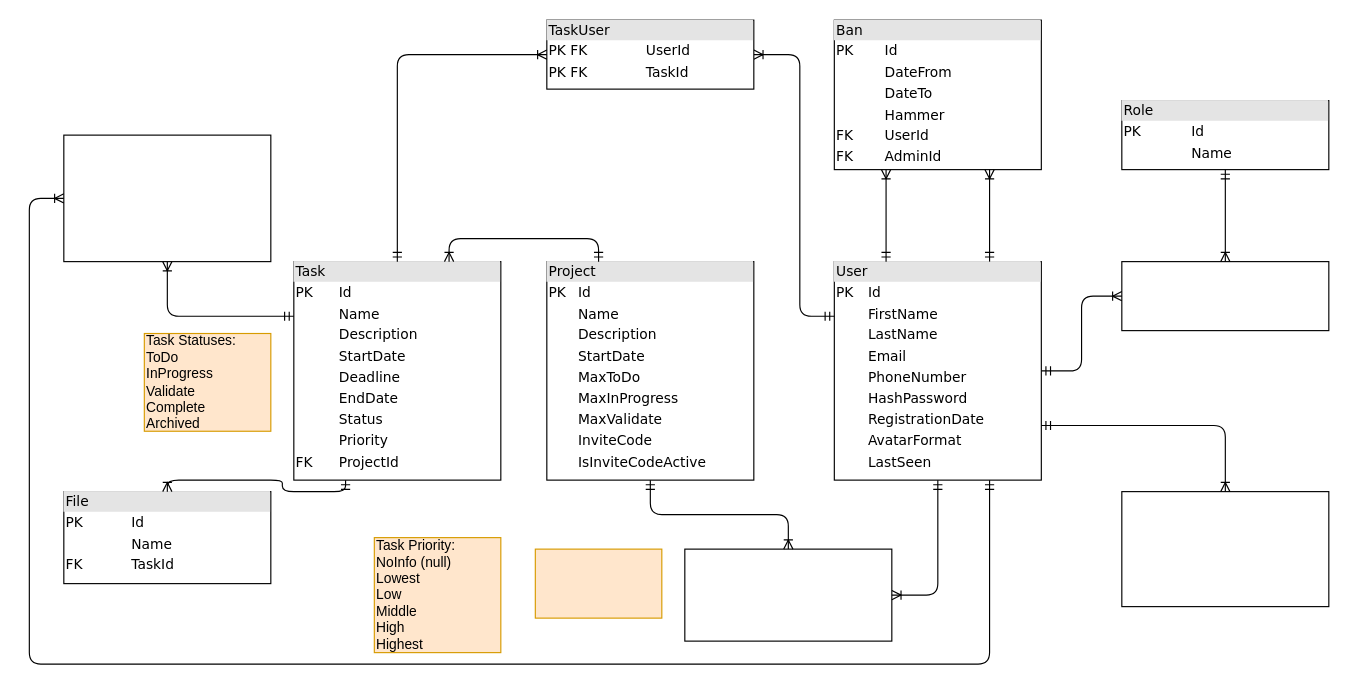
Image size: 1349x695. Some labels were removed from this diagram. Each missing label, with the box of its shape:
Message PK Id Text Date FK TaskId FK SenderId: (63, 134, 271, 262)
RefreshToken PK Id Token ExpiryTime FK UserId: (1121, 490, 1329, 607)
UoP Roles: User Manager Owner: (534, 548, 662, 618)
UserOnProject PK FK UserId PK FK ProjectId Role: (684, 548, 892, 641)
UserRole PK FK UserId PK FK RoleId: (1121, 260, 1329, 331)
